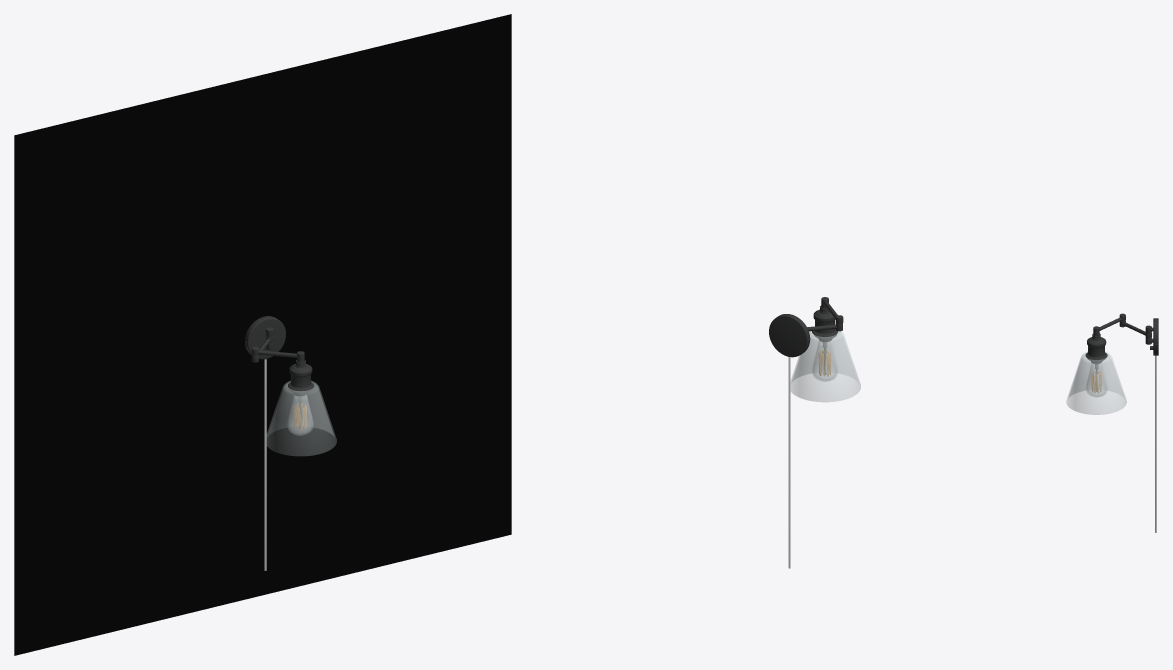
3 renders of one model, left to right at view 1: azimuth 30°, elevation 25°; view 2: azimuth 150°, elevation 25°; view 3: azimuth 270°, elevation 25°, orthographic. The views are drawn at different scales.
Visible parts, largest first — view 1: Lamp_Shadow, Lamp; view 2: Lamp; view 3: Lamp.
Part boxes in pixels (x1,y1,x2,y2): Lamp_Shadow: (14,14,511,655); Lamp: (245,316,336,570); Lamp: (769,297,860,568); Lamp: (1066,313,1158,532).
Bounding box in the file's own units: 1.3 × 1.3 × 0.2492.
Materials: 3 (3 with a texture image).
